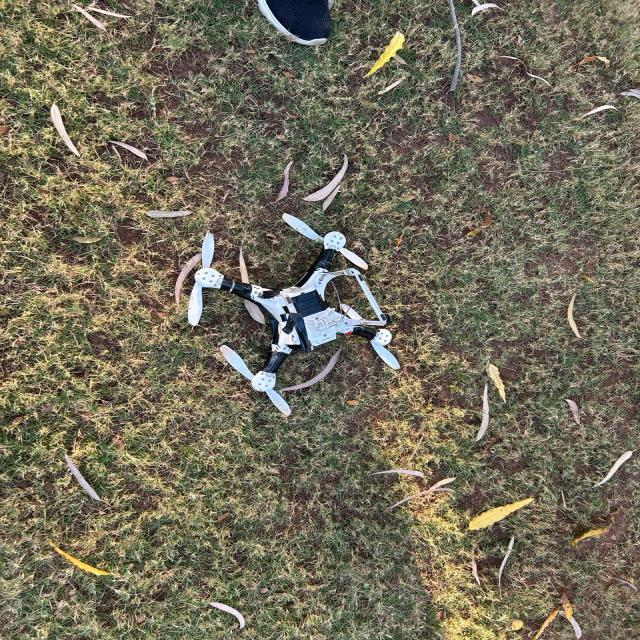drone: (172, 216, 410, 400)
